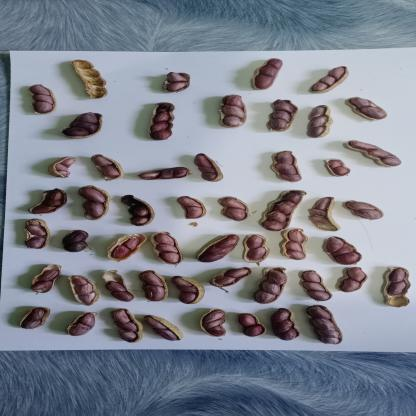Empty: (70, 59, 114, 100)
Four: (260, 189, 304, 232), (306, 305, 350, 347), (143, 102, 178, 143)
Three: (343, 141, 407, 168), (256, 268, 291, 307), (383, 267, 413, 309), (269, 150, 306, 184), (150, 232, 187, 266), (111, 309, 146, 344), (311, 198, 345, 234), (324, 238, 364, 267), (310, 66, 351, 94), (197, 236, 239, 263), (64, 113, 107, 139), (28, 189, 71, 215), (172, 276, 209, 306), (251, 58, 284, 91), (299, 270, 333, 302), (220, 95, 251, 129), (25, 85, 60, 115), (267, 101, 300, 132), (271, 309, 302, 342), (281, 230, 313, 261), (68, 277, 100, 307), (199, 309, 230, 338), (195, 154, 227, 182), (307, 106, 334, 139), (140, 167, 192, 182), (47, 157, 82, 179)
Two: (80, 185, 112, 221), (111, 232, 147, 264), (145, 316, 186, 344), (103, 270, 136, 303), (344, 98, 390, 121), (123, 195, 157, 226), (30, 265, 65, 295), (89, 154, 126, 182), (23, 220, 55, 252), (15, 307, 54, 332), (141, 271, 170, 304), (337, 267, 372, 294), (217, 198, 253, 224), (65, 313, 101, 339), (242, 235, 272, 265), (236, 314, 270, 339), (345, 201, 385, 222), (213, 268, 255, 288), (63, 229, 95, 255), (177, 197, 208, 220), (163, 73, 194, 94), (323, 160, 356, 179)
